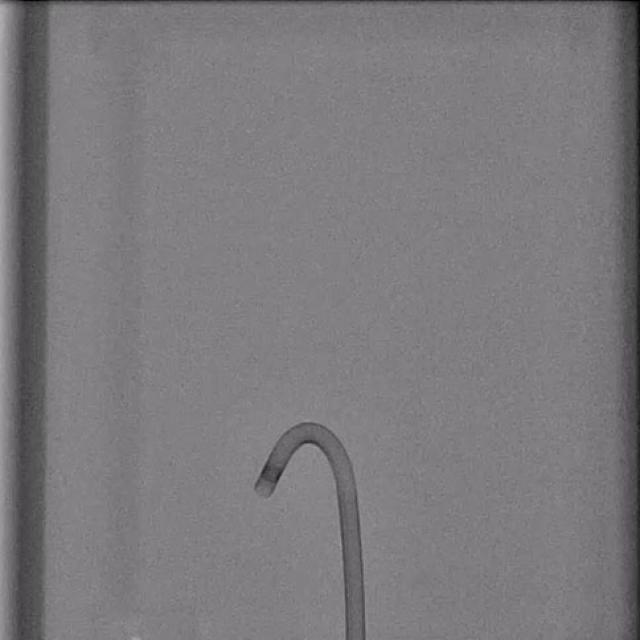bend: (336, 477, 358, 489)
entry: (347, 634, 365, 640)
marker: (261, 462, 283, 482)
tip: (254, 488, 270, 498)
